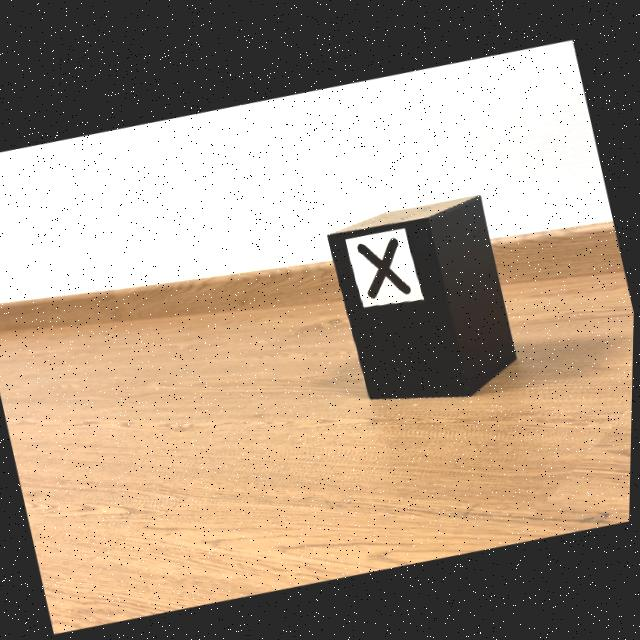X: (358, 233, 411, 294)
